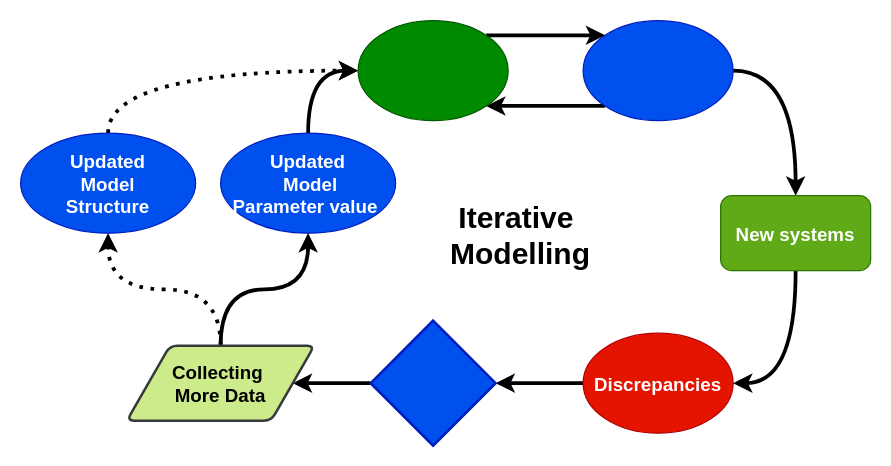
The diagram is 891 pixels wide and 466 high, and some of its shapes have lost their labels. Each missing label, with the centre of its shape:
"Hypothesis" belongs at [432,382].
"Models" belongs at [657,70].
"Understanding systems" belongs at [432,70].
